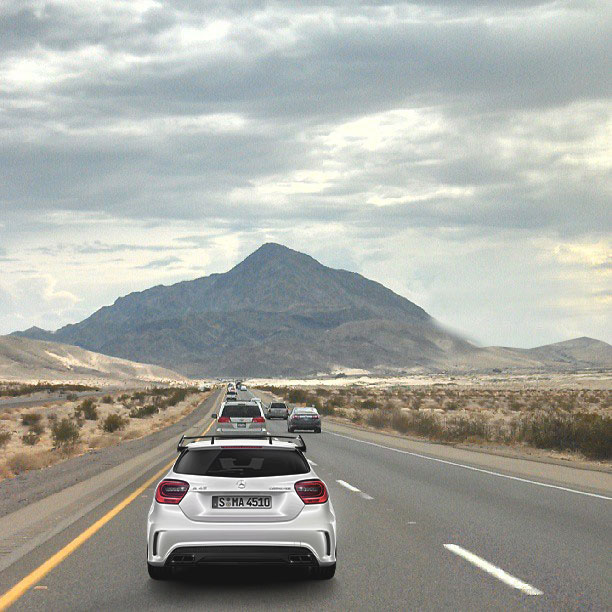removal: (377, 380, 431, 436)
spliced: (143, 430, 340, 580)
